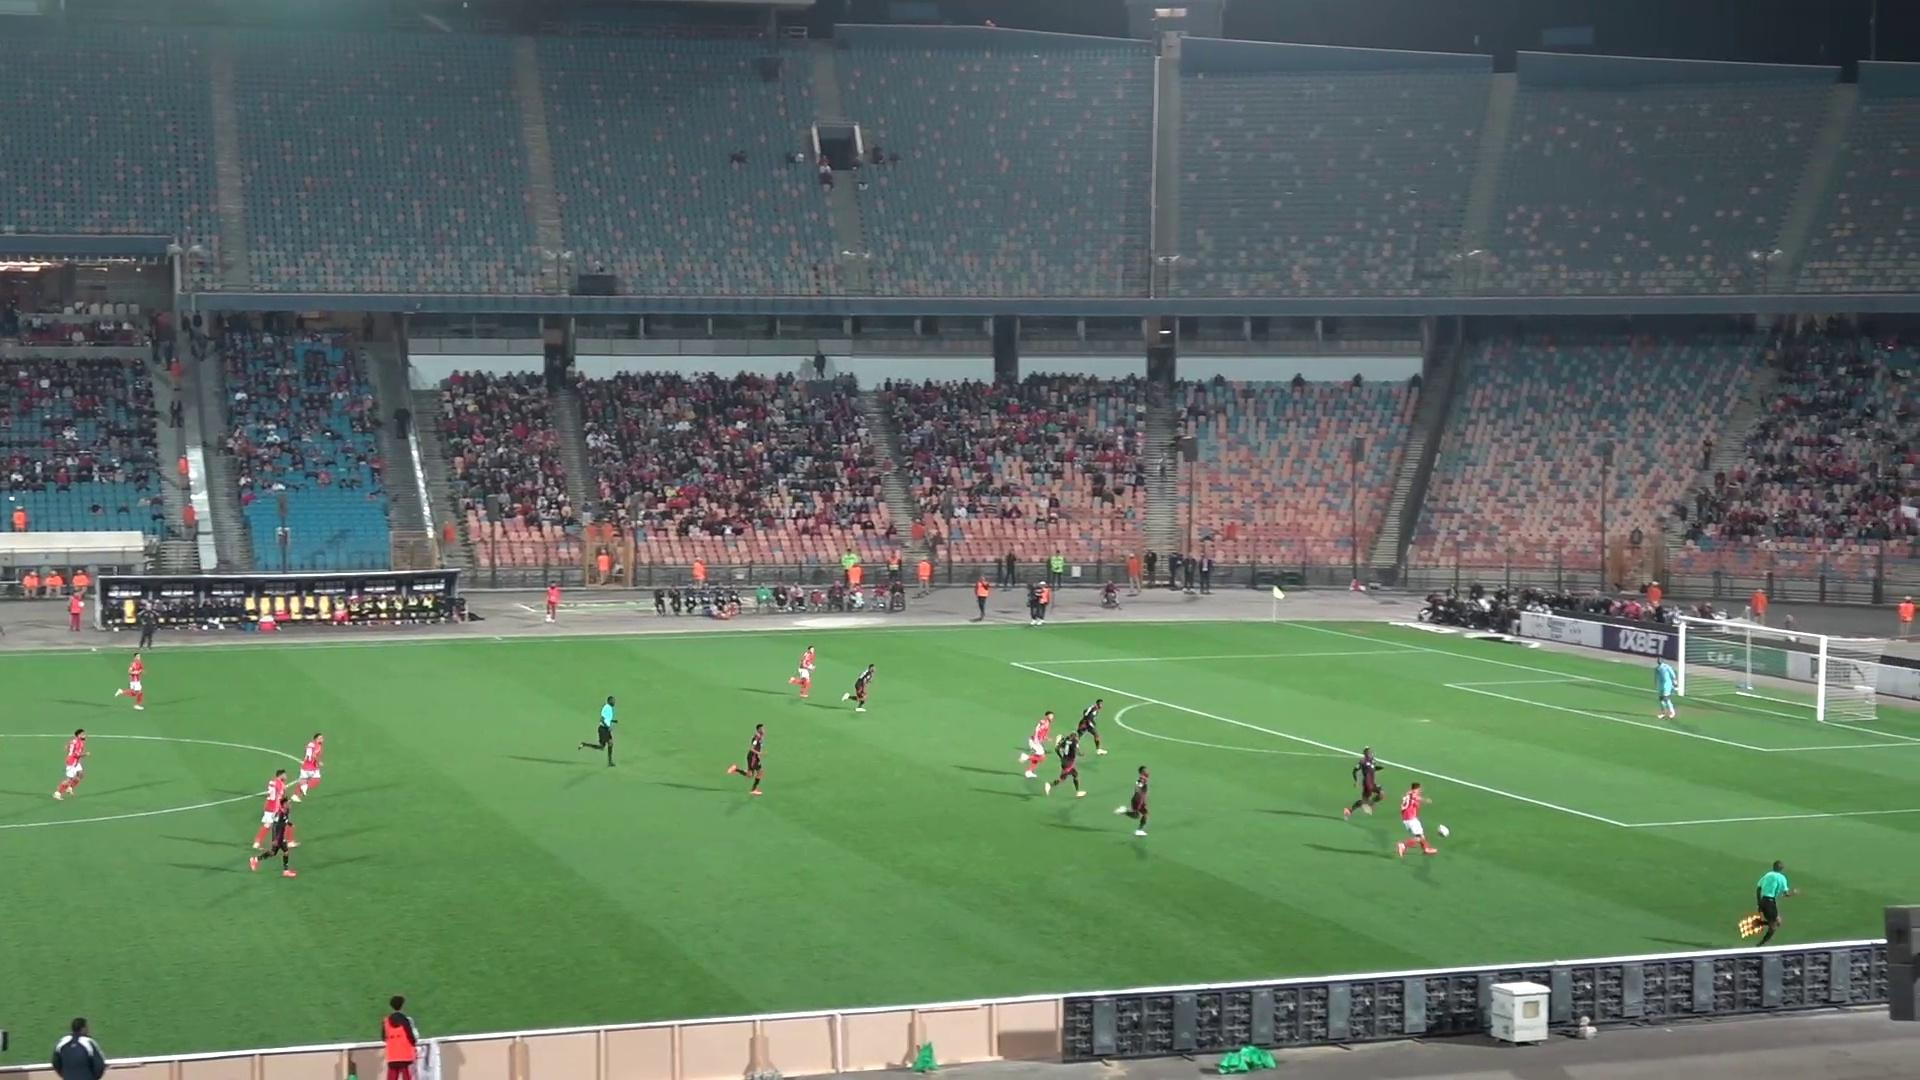Ball: (1437, 824, 1449, 836)
GK2: (1654, 657, 1677, 719)
Refree: (1739, 861, 1789, 944), (579, 695, 618, 766)
Team1: (251, 769, 286, 857), (1395, 783, 1437, 856), (51, 729, 88, 800), (1019, 711, 1055, 778), (115, 650, 146, 709), (295, 735, 324, 798), (789, 647, 816, 699)
Team2: (251, 793, 295, 876), (1342, 746, 1385, 819), (728, 723, 765, 795), (1062, 698, 1105, 756), (1048, 729, 1083, 796), (1116, 765, 1149, 835), (843, 665, 877, 711)
